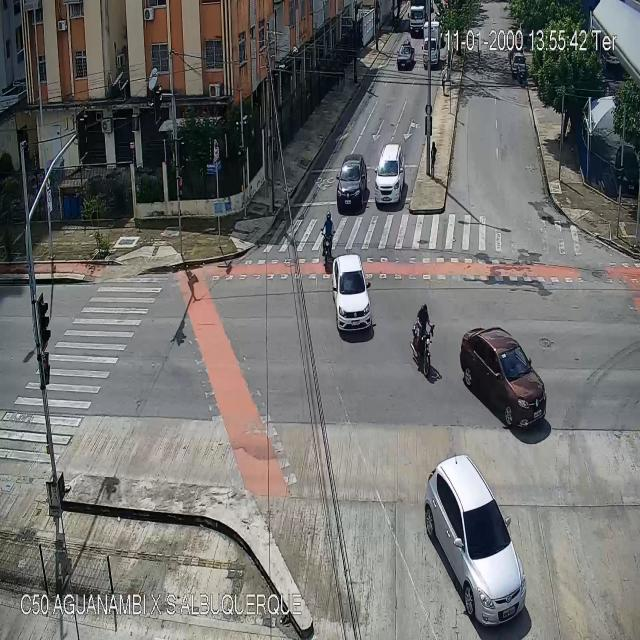Car: (423, 453, 528, 621), (459, 327, 547, 433), (333, 253, 374, 341), (374, 143, 404, 210), (337, 156, 366, 214), (396, 42, 414, 69), (512, 53, 526, 76)
Motorcycle: (410, 304, 436, 381), (322, 213, 337, 270), (516, 63, 524, 85)
Truck: (422, 20, 442, 70), (405, 0, 432, 37)
